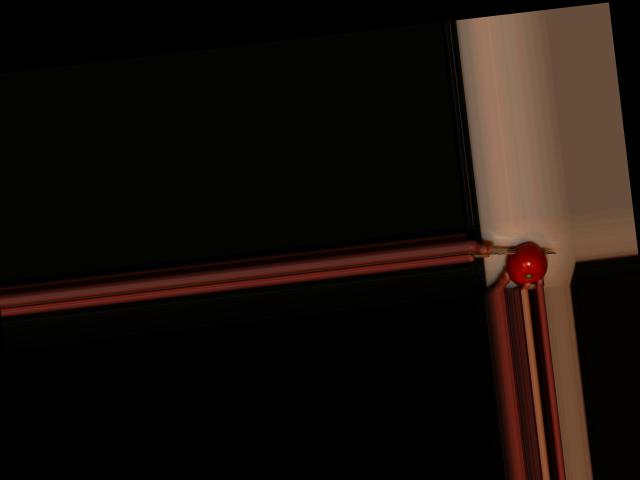tomato: (504, 240, 550, 287)
